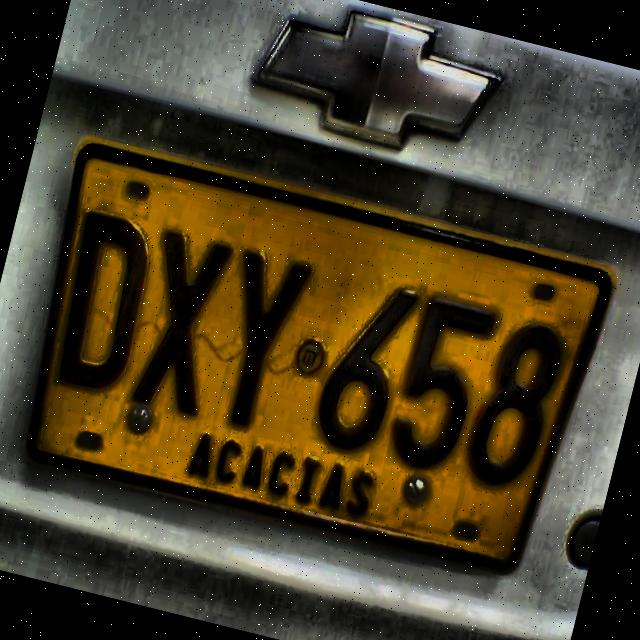plate: (22, 137, 617, 576)
